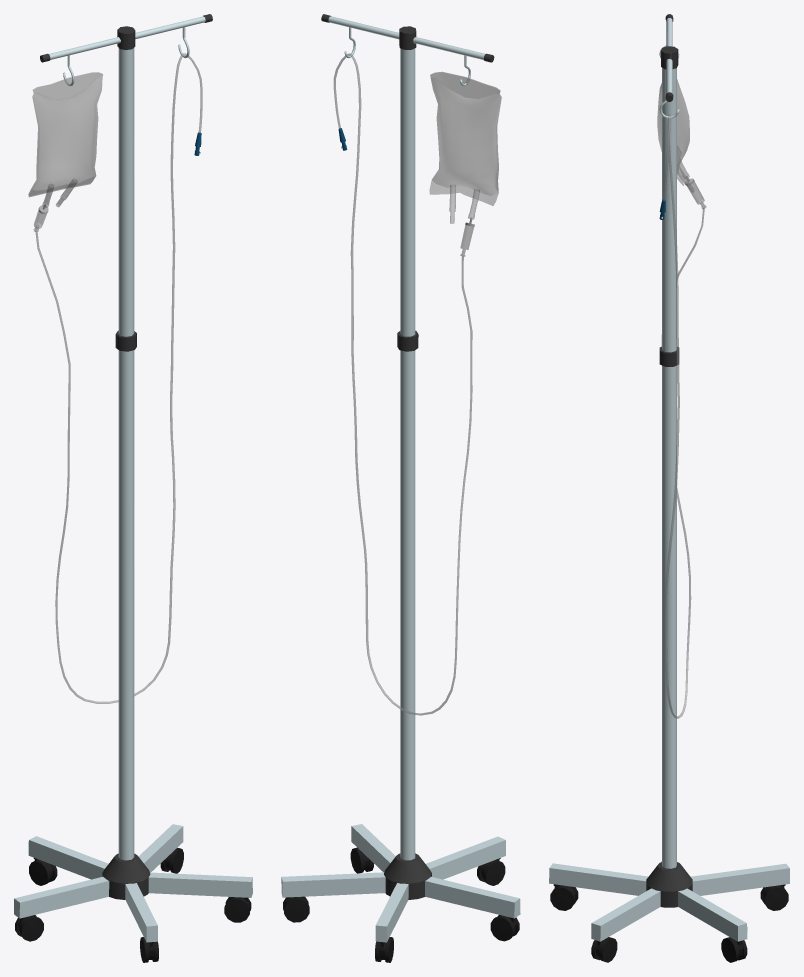
Rendered from GlocoseStand.fbx.
3 views of the same model, side by side, from view 1: azimuth 30°, elevation 25°; view 2: azimuth 150°, elevation 25°; view 3: azimuth 270°, elevation 25° (orthographic).
Visible parts, largest first — view 1: Stand1, Glass1; view 2: Stand1, Glass1; view 3: Stand1, Glass1.
Part boxes in pixels (x1,y1,x2,y2): Stand1: [14, 14, 252, 962]; Glass1: [28, 53, 202, 703]; Stand1: [281, 14, 520, 962]; Glass1: [333, 53, 501, 715]; Stand1: [549, 14, 789, 962]; Glass1: [657, 79, 706, 718].
Bounding box in the file's own units: 38.47 × 161 × 40.41.
